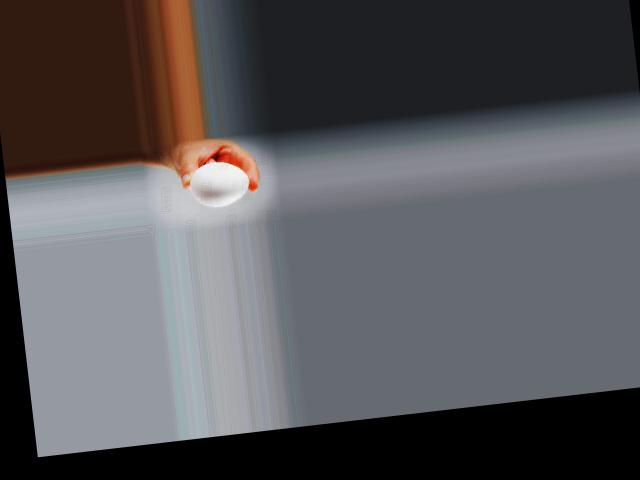egg: (188, 158, 251, 209)
